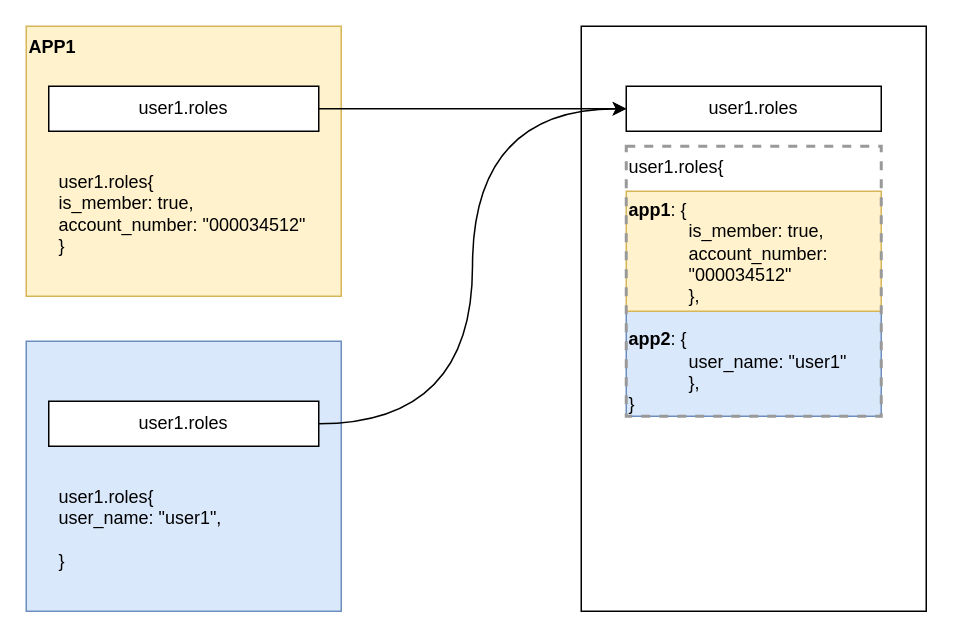
Image size: 953x638. Some labels were removed from this diagram. The shapes that lost their labels are listed below. From the top down, each one's box as (x1, y1, x2, y2) in pixels, then its label:
(580, 25, 926, 611): NOSQL DB
(25, 340, 341, 611): APP2
